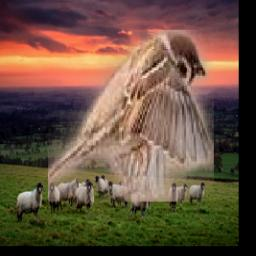Sparrow: (47, 31, 213, 203)
